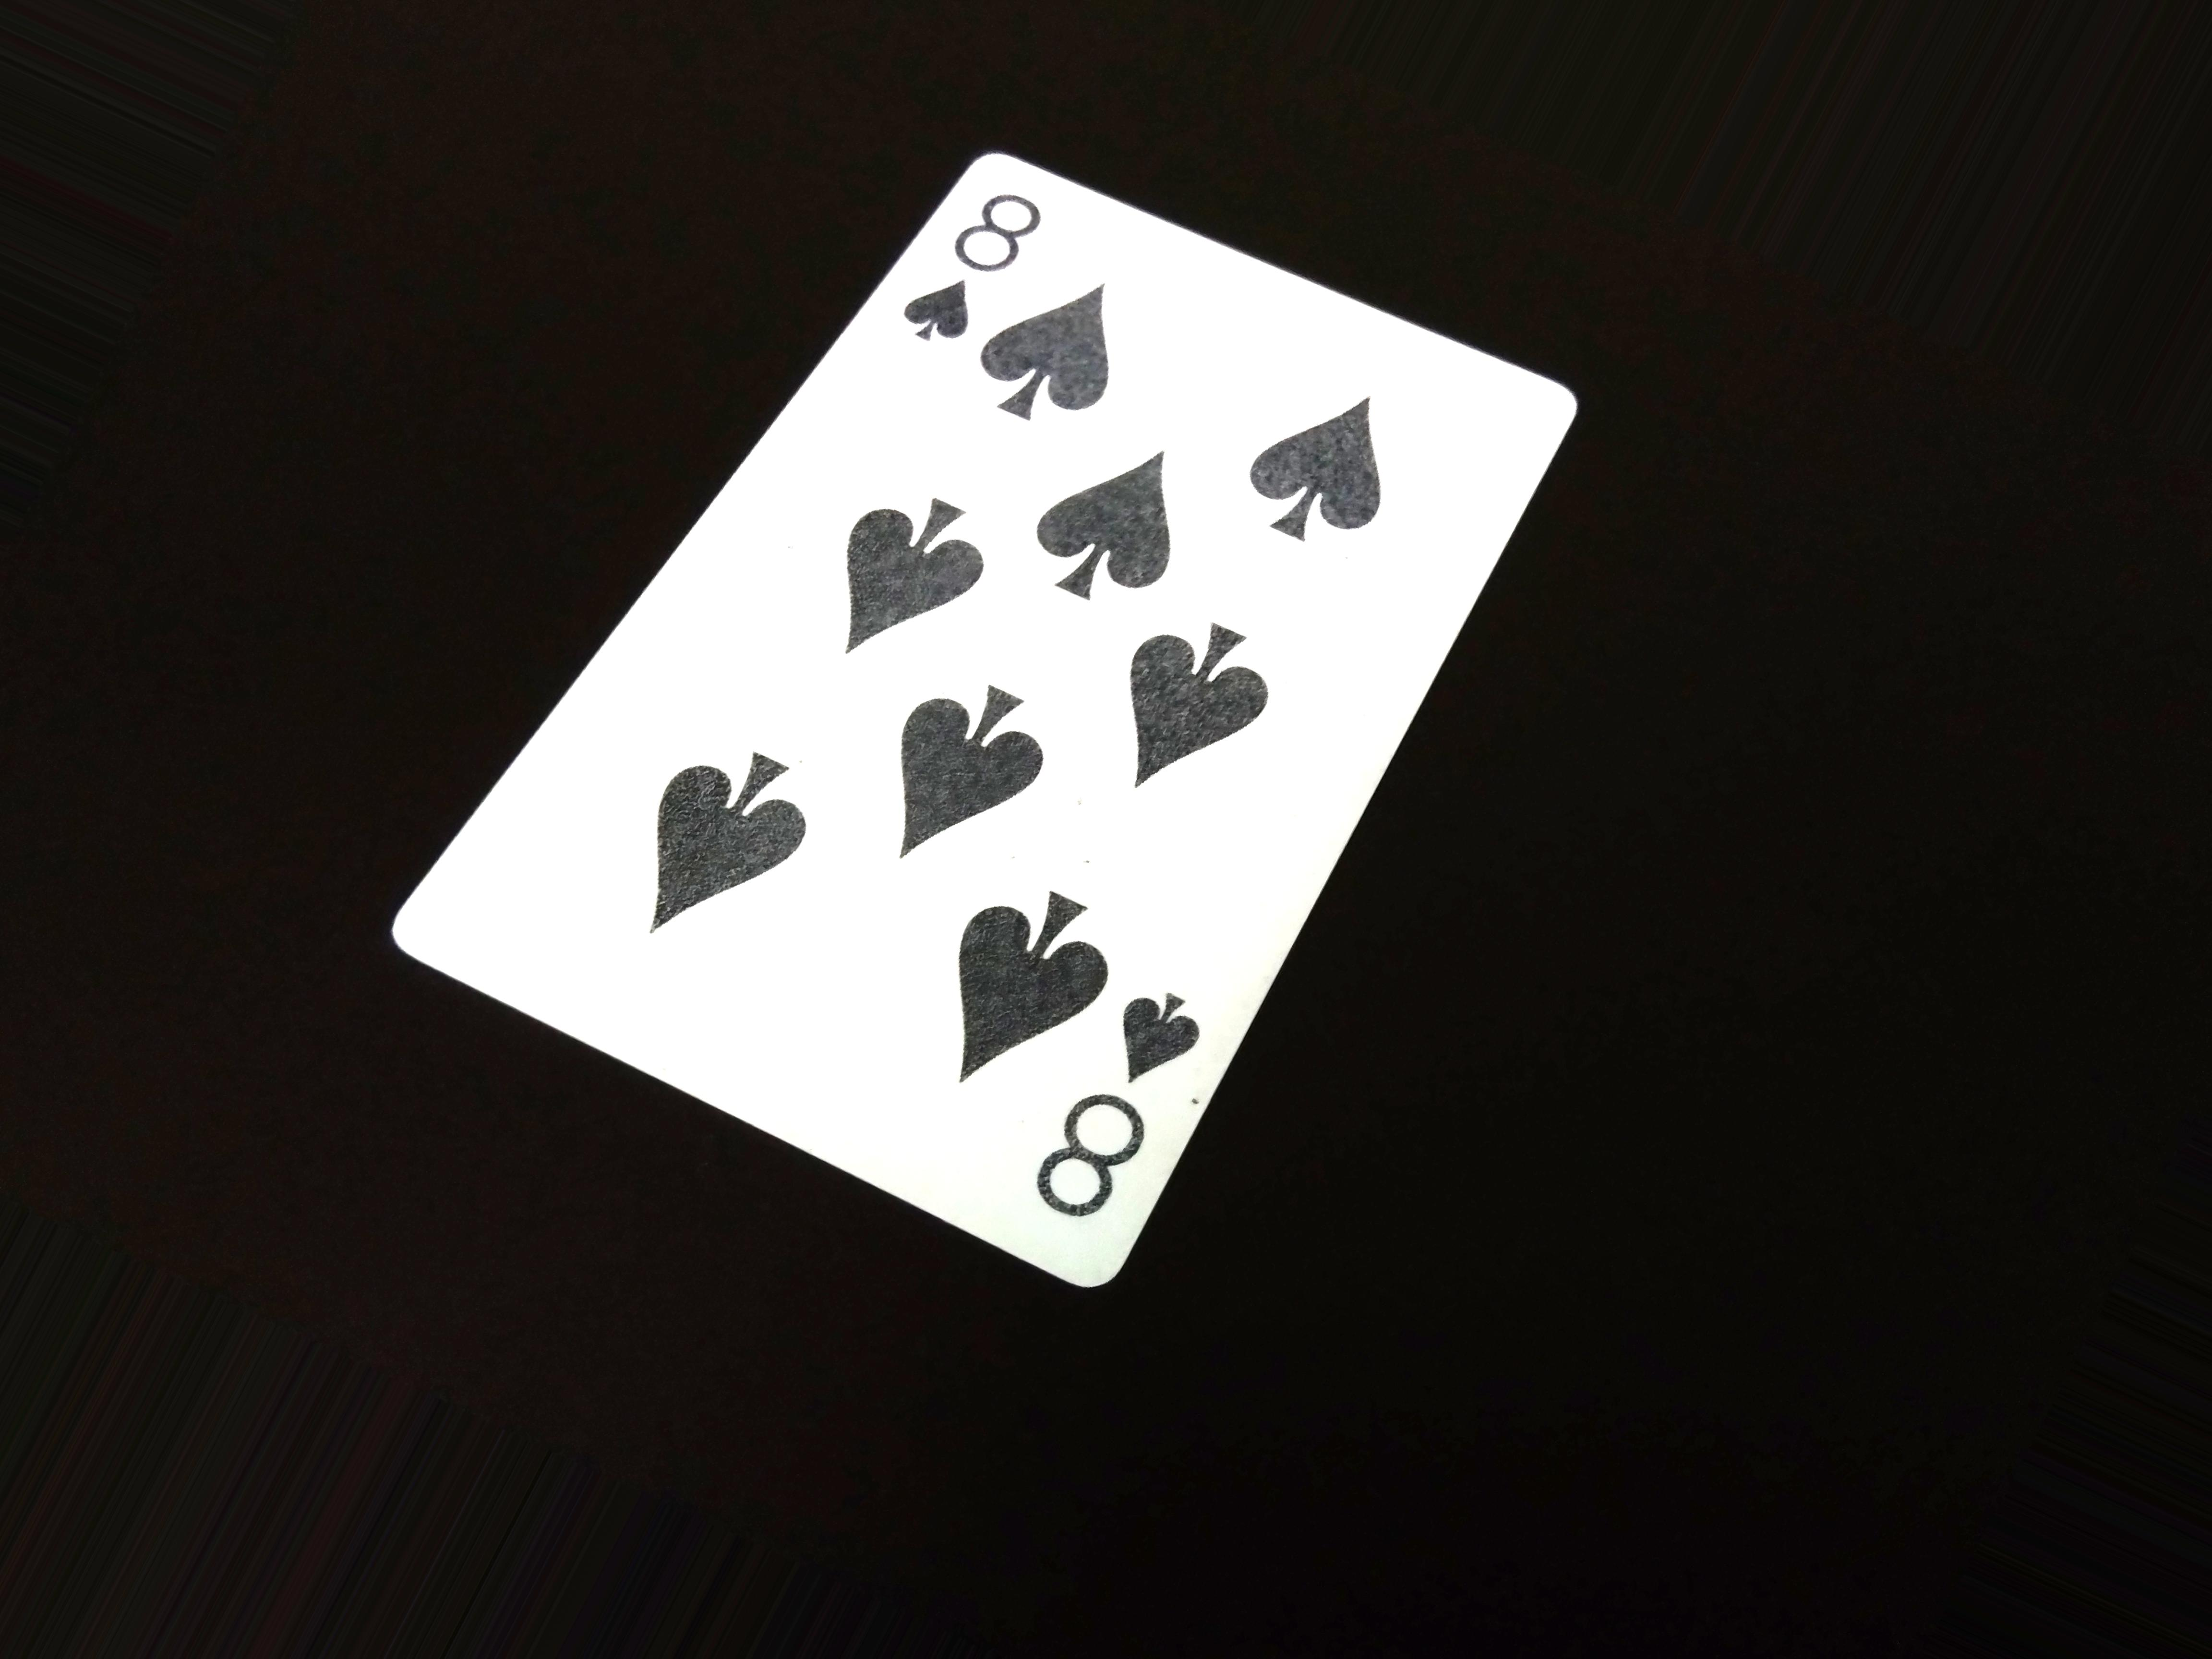8S: (1028, 979, 1212, 1256)
